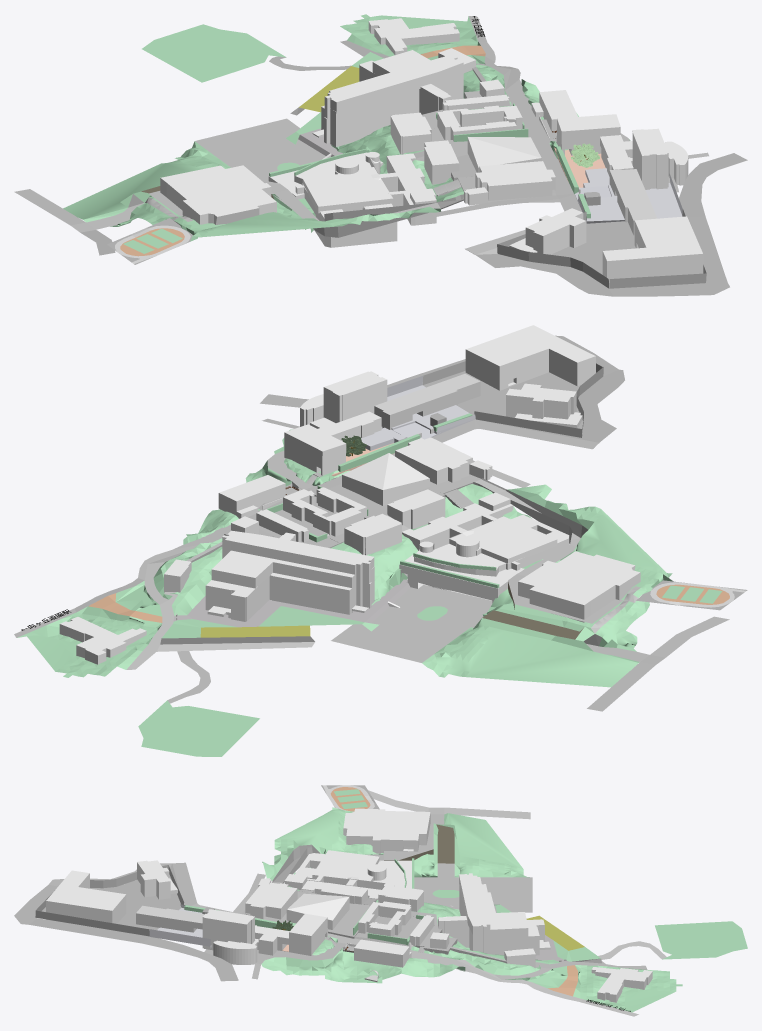
File: wholemap.glb
The picture shows the model from 3 angles, top to bottom: view 1: azimuth 30°, elevation 25°; view 2: azimuth 150°, elevation 25°; view 3: azimuth 270°, elevation 25°; orthographic projection. The views are drawn at different scales.
Visible parts, largest first — view 1: object, 10号館, 9号館, 総合体育館, 1号館, 北グラウンド, 駐車場_road_1, 4号館, 5号館, 図書館別館, 6号館, 西グラウンド (+11 smaller); view 2: object, 10号館, 9号館, 駐車場_road_1, 1号館, 総合体育館, 北グラウンド, 4号館, 第1体育館, 2号館, 6号館, 図書館別館 (+11 smaller); view 3: object, 10号館, 総合体育館, 9号館, 北グラウンド, 1号館, 駐車場_road_1, 4号館, 3号館, 5号館, 第1体育館, 6号館 (+11 smaller).
Boxes of the visible parts, box(x1,y1,x2,y2) form: object: box(14, 14, 747, 296); 10号館: box(312, 50, 463, 159); 9号館: box(268, 152, 397, 247); 総合体育館: box(160, 165, 276, 224); 1号館: box(602, 216, 703, 284); 北グラウンド: box(142, 24, 285, 82); 駐車場_road_1: box(195, 118, 325, 181); 4号館: box(556, 114, 633, 176); 5号館: box(475, 161, 555, 200); 図書館別館: box(509, 208, 586, 254); 6号館: box(437, 105, 522, 140); 西グラウンド: box(107, 218, 193, 264); object: box(14, 335, 733, 711); 10号館: box(205, 530, 399, 621); 9号館: box(399, 514, 569, 603); 駐車場_road_1: box(331, 584, 492, 662); 1号館: box(465, 325, 595, 390); 総合体育館: box(518, 551, 640, 622); 北グラウンド: box(138, 700, 259, 756); 4号館: box(284, 411, 381, 475); 第1体育館: box(342, 453, 429, 505); 2号館: box(374, 374, 480, 429); 6号館: box(283, 487, 366, 536); 図書館別館: box(506, 383, 582, 428); object: box(14, 790, 682, 1016); 10号館: box(438, 873, 550, 955); 総合体育館: box(343, 808, 430, 853); 9号館: box(295, 850, 411, 889); 北グラウンド: box(655, 921, 747, 959); 1号館: box(46, 870, 126, 923); 駐車場_road_1: box(414, 877, 532, 912); 4号館: box(251, 913, 327, 955); 3号館: box(202, 909, 254, 950); 5号館: box(245, 882, 297, 919); 第1体育館: box(286, 893, 349, 929); 6号館: box(358, 901, 411, 936).
Bounding box in the file's own units: 148 × 24.58 × 216.
